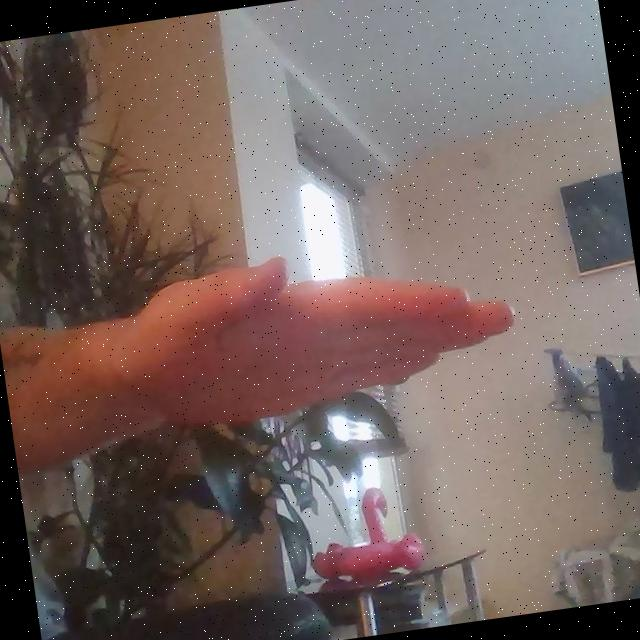papper: (102, 223, 529, 464)
